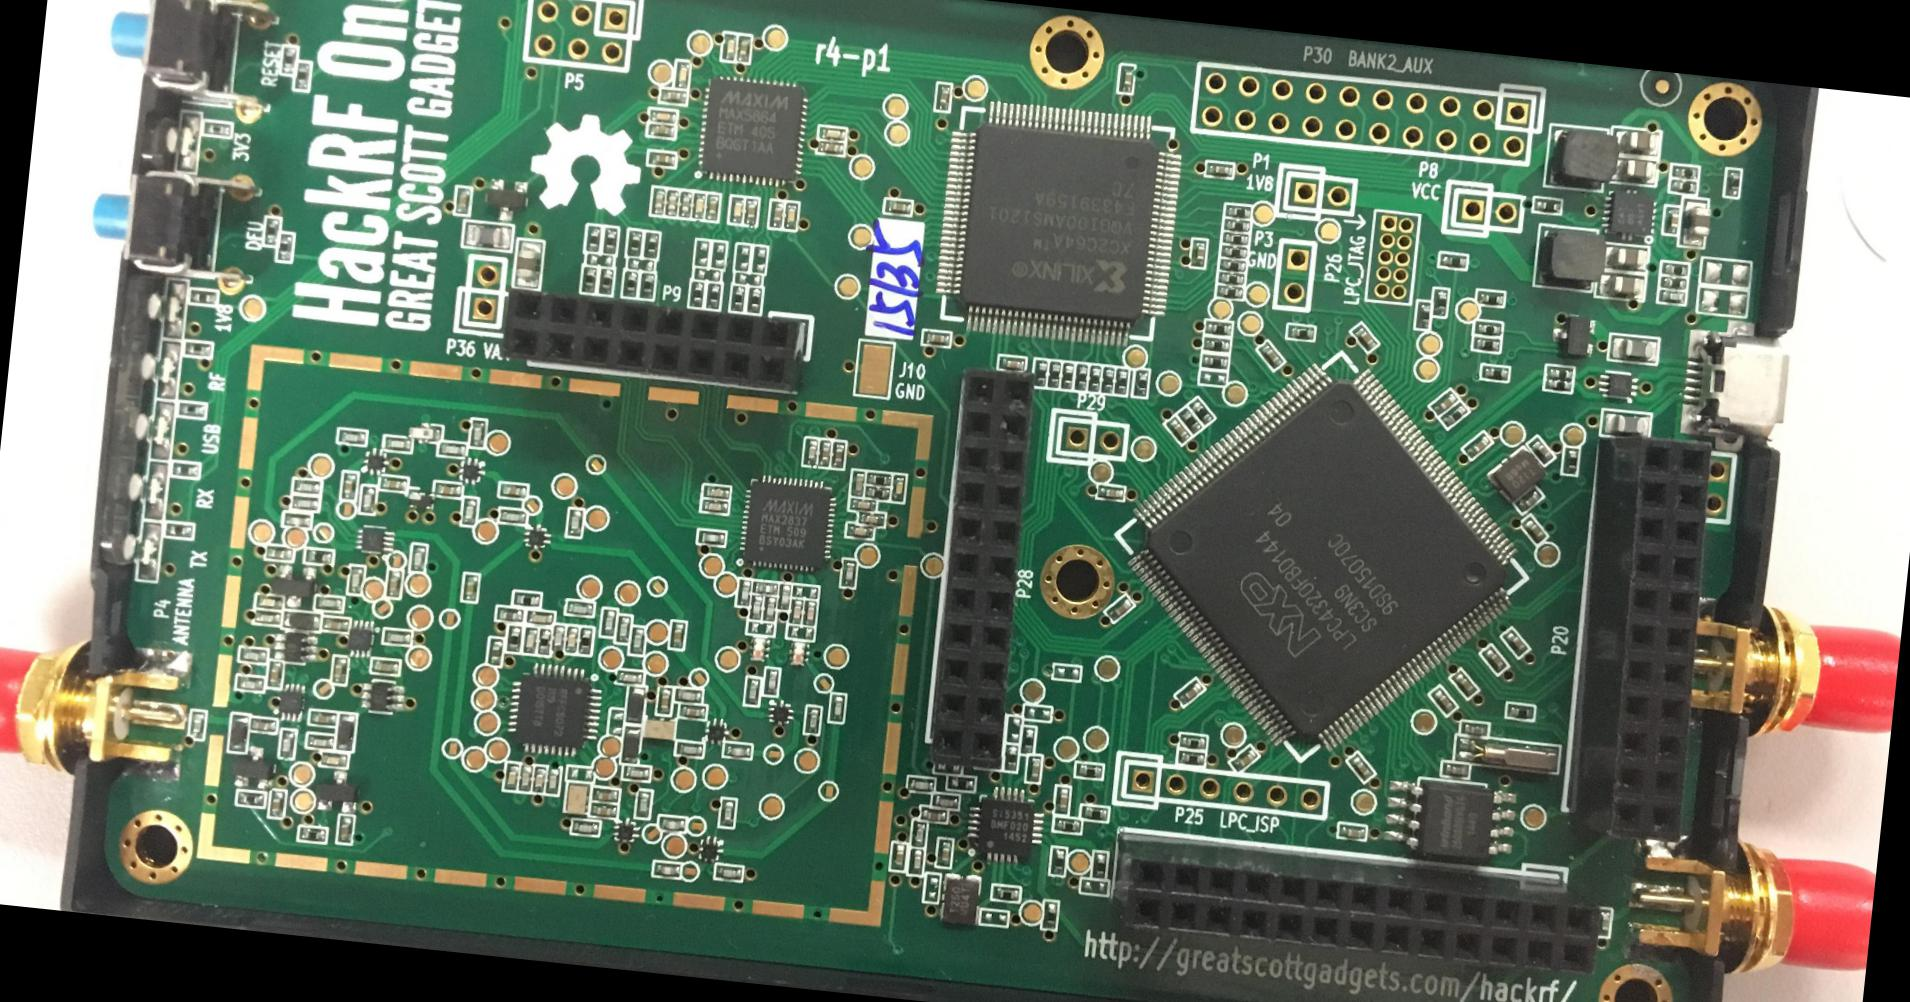Button: (85, 163, 227, 278), (102, 0, 248, 107)
Capacitor: (1607, 331, 1660, 365), (1679, 197, 1712, 250), (513, 238, 544, 291), (1602, 243, 1650, 275), (1612, 128, 1662, 158), (1612, 157, 1660, 188), (1594, 273, 1646, 302), (1599, 409, 1651, 438), (1477, 642, 1512, 677), (1446, 667, 1482, 703), (1343, 749, 1378, 785), (1253, 337, 1286, 370), (1502, 625, 1531, 660), (1429, 685, 1459, 716), (1175, 679, 1205, 708), (1518, 516, 1547, 546), (1350, 322, 1379, 351), (1107, 595, 1133, 623), (1431, 389, 1459, 416), (918, 327, 952, 349), (644, 148, 677, 169), (1189, 235, 1209, 269), (1166, 417, 1191, 444), (1232, 745, 1256, 773), (1464, 432, 1492, 456), (1335, 821, 1368, 842), (1115, 63, 1136, 96), (1661, 203, 1681, 236), (432, 479, 464, 499), (461, 571, 480, 604), (369, 658, 402, 677), (331, 653, 350, 686), (1052, 783, 1071, 816), (935, 838, 954, 871), (1203, 160, 1235, 179), (644, 123, 678, 140), (782, 198, 800, 232), (699, 481, 730, 500), (888, 840, 907, 872), (882, 197, 913, 216), (767, 198, 786, 230), (453, 184, 472, 216), (340, 470, 359, 500), (667, 619, 686, 649), (267, 788, 285, 819), (1439, 762, 1470, 780), (815, 138, 846, 155), (817, 123, 846, 142), (995, 355, 1024, 374), (843, 523, 875, 540), (337, 814, 354, 847), (889, 473, 907, 503), (499, 481, 529, 499), (249, 716, 279, 734), (647, 107, 677, 125), (320, 751, 347, 770), (849, 468, 865, 499), (563, 623, 580, 655), (531, 764, 547, 796), (728, 195, 744, 226), (831, 438, 848, 470), (656, 686, 673, 715), (1024, 753, 1042, 782), (659, 87, 688, 105), (381, 475, 408, 494), (856, 510, 887, 527), (699, 498, 729, 514), (387, 569, 403, 599), (720, 33, 736, 63), (743, 196, 759, 226), (678, 701, 706, 719), (673, 58, 691, 86), (736, 30, 752, 62), (934, 82, 950, 111), (1098, 483, 1124, 500), (309, 710, 336, 728), (503, 762, 518, 792), (706, 192, 721, 222), (1460, 721, 1488, 738), (267, 661, 283, 689), (819, 437, 832, 469), (920, 807, 946, 824), (848, 497, 875, 512), (321, 617, 349, 632), (691, 191, 706, 219), (594, 787, 619, 804), (590, 805, 616, 820), (803, 600, 817, 624), (791, 599, 803, 624)
Connector: (1108, 826, 1606, 975), (1561, 433, 1714, 842), (922, 370, 1035, 770), (1621, 834, 1876, 991), (1189, 59, 1536, 167), (1684, 596, 1902, 756), (500, 288, 810, 395), (0, 632, 193, 782), (1678, 325, 1793, 446), (1120, 761, 1330, 821), (520, 0, 635, 72), (1363, 210, 1421, 306), (1451, 187, 1527, 235), (1054, 414, 1131, 461), (1282, 171, 1358, 217), (1271, 236, 1316, 312), (464, 254, 507, 330), (1704, 449, 1739, 527)
IC: (1096, 329, 1554, 787), (939, 104, 1175, 339), (696, 69, 812, 186), (1382, 775, 1520, 867), (736, 473, 836, 574), (507, 660, 604, 761), (965, 786, 1046, 866), (1601, 187, 1657, 241), (1492, 447, 1546, 500), (941, 873, 980, 926), (359, 676, 407, 715), (274, 631, 317, 667), (1595, 368, 1640, 401), (355, 524, 394, 556), (278, 684, 306, 721), (349, 623, 376, 660), (767, 699, 795, 725), (523, 524, 550, 551), (696, 836, 724, 862), (459, 459, 485, 484), (363, 447, 388, 473), (704, 718, 728, 744), (611, 821, 639, 844)
Led: (109, 272, 189, 339), (99, 395, 178, 462), (106, 334, 184, 401), (131, 102, 203, 173), (88, 514, 164, 581), (92, 457, 171, 521)
Pads: (1693, 288, 1747, 321), (1698, 257, 1752, 288), (1051, 662, 1083, 684), (1078, 877, 1109, 897), (978, 907, 1009, 927), (922, 872, 941, 903), (692, 236, 711, 268), (733, 243, 752, 274), (584, 250, 616, 268), (1003, 715, 1022, 744), (731, 270, 764, 287), (750, 243, 768, 273), (1022, 704, 1051, 721), (692, 267, 723, 283), (625, 257, 657, 272), (748, 620, 777, 637), (787, 624, 815, 641), (711, 240, 728, 268)
Resistor Network: (1475, 361, 1511, 384), (1129, 365, 1152, 401), (1051, 814, 1084, 836), (235, 788, 268, 810), (174, 399, 208, 420), (1505, 703, 1539, 723), (1072, 761, 1104, 782), (1078, 804, 1110, 824), (989, 883, 1022, 903), (279, 43, 299, 76), (1435, 250, 1468, 270), (623, 227, 643, 260), (186, 287, 219, 307), (1723, 167, 1742, 201), (261, 215, 282, 246), (182, 339, 213, 359), (1000, 742, 1019, 775), (1048, 844, 1067, 877), (1041, 898, 1060, 931), (277, 231, 296, 264), (169, 460, 201, 479), (163, 522, 195, 541), (1667, 178, 1699, 197), (1531, 196, 1563, 215), (1475, 291, 1507, 310), (1431, 287, 1450, 318), (1473, 320, 1505, 339), (1470, 336, 1502, 355), (1285, 322, 1316, 341), (1200, 335, 1232, 354), (638, 269, 656, 302), (303, 547, 333, 566), (512, 590, 542, 609), (642, 230, 661, 260), (579, 264, 598, 294), (1198, 368, 1228, 387), (1179, 733, 1206, 753), (577, 624, 595, 656), (945, 775, 976, 792), (293, 59, 311, 91), (601, 225, 619, 257), (622, 268, 639, 299), (729, 283, 747, 315), (297, 826, 326, 845), (745, 286, 764, 315), (537, 625, 553, 658), (1072, 360, 1089, 393), (1670, 163, 1700, 181), (203, 120, 234, 138), (1203, 318, 1233, 336), (598, 268, 615, 298), (1199, 353, 1229, 370), (1113, 366, 1131, 397), (1090, 852, 1109, 879), (1563, 449, 1582, 476), (1216, 257, 1248, 273), (1214, 283, 1246, 299), (1046, 359, 1062, 390), (931, 761, 965, 776), (1181, 409, 1203, 433), (1176, 751, 1205, 768), (706, 282, 724, 311), (1220, 230, 1251, 246), (1415, 301, 1431, 331), (1032, 358, 1048, 388), (1086, 365, 1103, 395), (1019, 727, 1037, 754), (687, 281, 705, 308), (1190, 403, 1213, 425), (1443, 406, 1467, 426), (1215, 270, 1247, 286), (505, 625, 523, 652), (586, 224, 603, 251), (1227, 202, 1252, 220), (1661, 262, 1689, 277), (1660, 275, 1688, 291), (1546, 364, 1574, 379), (1100, 364, 1114, 394), (1219, 245, 1248, 259), (864, 485, 891, 500), (1545, 378, 1571, 393), (1060, 363, 1075, 389), (1223, 219, 1251, 232), (869, 471, 893, 486)
Test Point: (522, 134, 955, 566), (851, 336, 896, 401), (1637, 69, 1684, 109), (403, 643, 435, 675), (682, 27, 715, 57), (845, 221, 875, 253), (404, 600, 433, 633), (471, 516, 500, 547), (402, 570, 433, 599), (757, 791, 786, 823), (880, 90, 910, 121), (484, 427, 513, 457), (550, 470, 579, 500), (640, 648, 670, 679), (846, 153, 877, 182), (1454, 294, 1483, 325), (470, 709, 502, 737), (237, 292, 265, 323), (1532, 540, 1561, 569), (582, 503, 611, 532), (576, 574, 605, 603), (1408, 706, 1438, 735), (1348, 788, 1377, 818), (288, 787, 317, 816), (1219, 379, 1248, 408), (711, 569, 739, 599), (821, 642, 849, 671), (1017, 676, 1046, 704), (1081, 724, 1109, 753), (1051, 735, 1079, 764), (469, 685, 498, 713), (1517, 804, 1546, 831), (700, 762, 728, 791), (670, 764, 697, 794), (287, 759, 315, 788), (659, 831, 688, 859), (646, 58, 675, 86), (1498, 420, 1526, 449), (1129, 435, 1158, 462), (1086, 457, 1114, 486), (1093, 653, 1120, 681), (1219, 721, 1247, 749), (792, 747, 820, 775), (1065, 848, 1093, 876), (760, 21, 788, 49), (1243, 281, 1271, 308), (1205, 294, 1233, 322), (1560, 421, 1588, 449), (1017, 898, 1043, 927), (307, 452, 335, 479), (248, 517, 274, 545), (613, 579, 640, 605), (1314, 216, 1342, 243), (1412, 358, 1440, 384), (1155, 369, 1181, 397), (643, 618, 670, 644), (714, 646, 740, 672), (598, 646, 624, 672), (883, 120, 910, 147), (1235, 310, 1262, 336), (1416, 331, 1443, 358), (834, 273, 860, 299), (918, 551, 944, 579), (699, 551, 724, 579), (282, 523, 307, 551), (483, 737, 510, 762), (1249, 200, 1277, 225), (855, 542, 880, 569), (436, 604, 461, 631), (589, 753, 614, 780), (461, 747, 486, 773), (311, 521, 336, 546), (595, 734, 622, 758), (471, 665, 499, 687), (361, 577, 387, 601), (963, 76, 987, 101), (1123, 344, 1147, 368), (520, 494, 544, 517), (370, 596, 394, 619), (815, 778, 839, 801), (335, 499, 357, 522), (762, 743, 784, 766), (687, 666, 709, 690), (585, 452, 606, 475), (646, 575, 667, 598), (441, 738, 464, 759), (385, 550, 407, 571), (312, 677, 333, 699), (640, 823, 662, 844), (811, 673, 835, 692), (686, 815, 707, 835), (681, 863, 700, 884)
Transistor: (267, 564, 318, 610), (230, 744, 275, 792), (485, 177, 529, 222), (1553, 313, 1597, 359), (315, 770, 359, 812)
Unknown Unlabeled: (1545, 123, 1617, 191), (1534, 224, 1606, 291), (1453, 735, 1560, 776), (460, 217, 515, 251), (561, 782, 592, 816), (226, 711, 250, 756), (280, 609, 322, 633), (333, 711, 357, 753), (640, 719, 678, 742), (624, 685, 646, 724), (622, 725, 643, 764), (408, 421, 442, 442), (563, 505, 585, 540), (186, 708, 207, 742), (335, 426, 368, 447), (563, 596, 596, 618), (380, 625, 413, 647), (826, 691, 848, 724), (787, 639, 811, 668), (802, 703, 822, 737), (1655, 286, 1689, 306), (742, 675, 762, 708), (633, 788, 653, 821), (622, 762, 652, 783), (651, 859, 681, 881), (839, 556, 858, 590), (718, 796, 736, 830), (467, 417, 488, 449), (381, 433, 413, 454), (723, 740, 754, 761), (696, 528, 729, 547), (280, 510, 313, 529), (346, 564, 365, 596), (762, 666, 781, 699), (671, 685, 704, 704), (568, 819, 601, 838), (235, 673, 265, 694), (359, 483, 378, 514), (485, 637, 504, 668), (277, 728, 296, 759), (801, 436, 820, 468), (748, 636, 769, 663), (499, 505, 528, 526), (315, 594, 344, 614), (600, 605, 618, 638), (672, 739, 705, 757), (460, 494, 477, 526), (288, 495, 320, 513), (628, 625, 646, 657), (408, 543, 427, 572), (306, 732, 335, 751), (565, 764, 594, 783), (714, 863, 743, 882), (614, 614, 632, 644), (253, 610, 283, 628), (494, 607, 526, 623), (928, 792, 960, 809), (677, 187, 694, 219), (664, 187, 681, 219), (437, 440, 466, 457), (254, 594, 283, 612), (237, 647, 267, 665), (657, 815, 686, 833), (736, 577, 752, 610), (522, 625, 538, 656), (517, 762, 533, 792), (907, 848, 925, 876), (261, 546, 293, 561), (614, 670, 643, 686), (752, 580, 778, 598), (546, 766, 561, 796), (292, 478, 320, 494), (791, 584, 819, 600), (526, 609, 553, 625), (907, 776, 935, 792), (911, 819, 927, 847), (651, 186, 666, 215), (760, 595, 776, 623), (777, 582, 791, 612), (749, 593, 763, 620), (552, 624, 566, 651), (609, 711, 624, 735)
